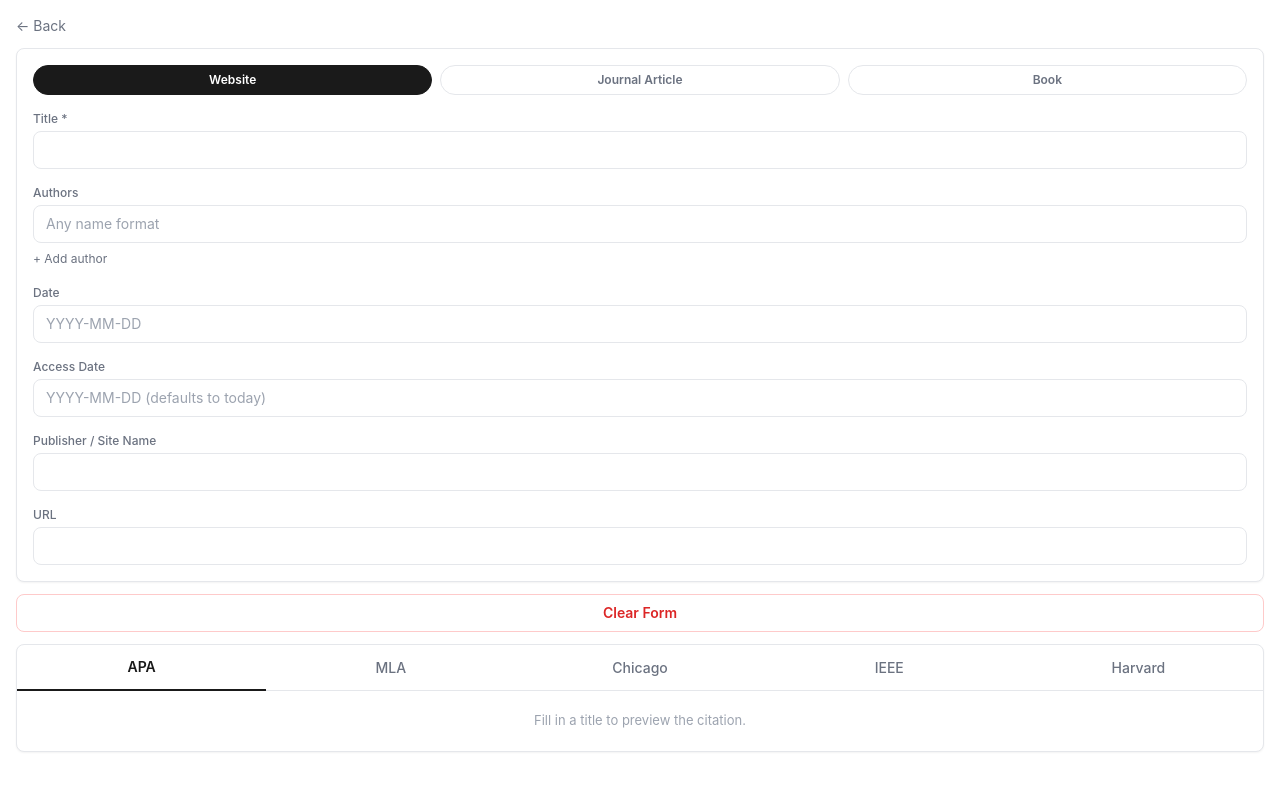
Scenario: ManualEntryForm — author add and remove › adds a second author input when '+ Add author' is clicked
Click the button "+ Add author" at [70, 259], box [33,251,107,267]
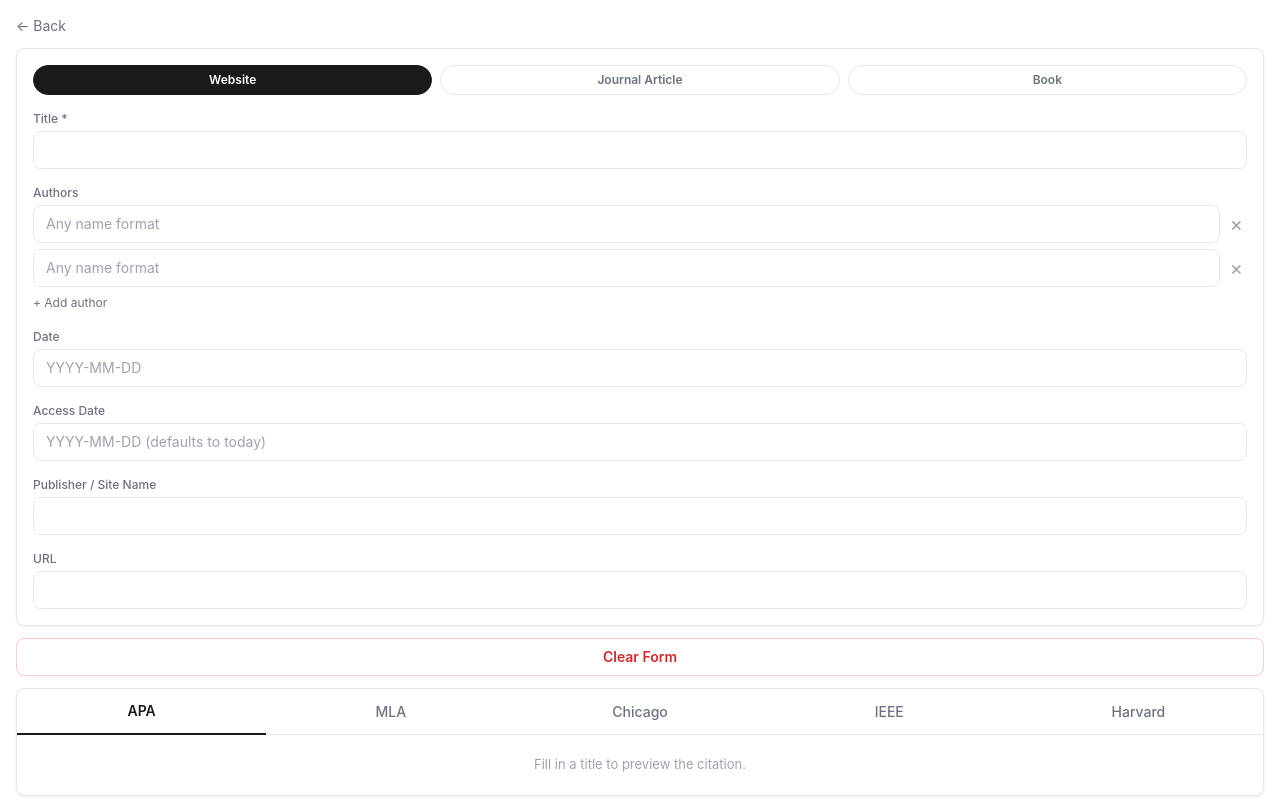
Check: the number of fields with placeholder "Any name format" is 2, box [33,205,1220,243]; [33,249,1220,287]
